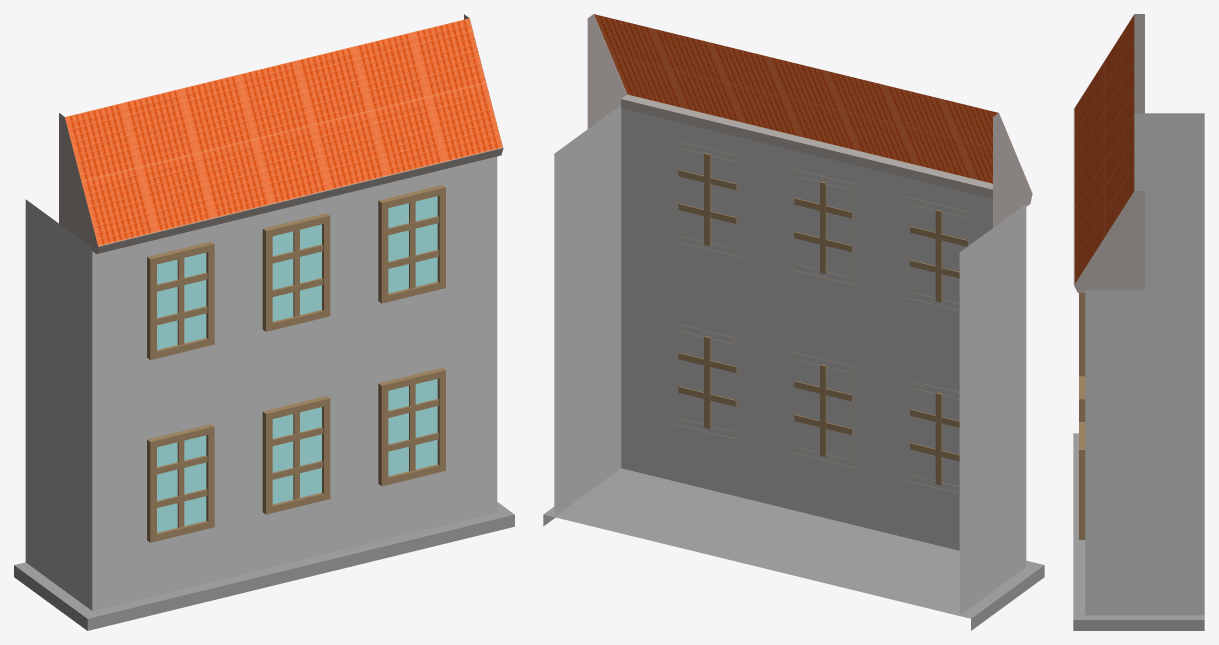
File: old_town_facade_3_WIP.fbx
3 views of the same model, side by side, from view 1: azimuth 30°, elevation 25°; view 2: azimuth 150°, elevation 25°; view 3: azimuth 270°, elevation 25° (orthographic). The views are drawn at different scales.
Parts seen in each view (by area): view 1: old_town_facade_3_WIP; view 2: old_town_facade_3_WIP; view 3: old_town_facade_3_WIP.
Part boxes in pixels (left/top/right/bottom): old_town_facade_3_WIP: left=14, top=14, right=514, bottom=630; old_town_facade_3_WIP: left=543, top=14, right=1044, bottom=630; old_town_facade_3_WIP: left=1073, top=14, right=1204, bottom=630.
Bounding box in the file's own units: 739 × 803 × 220.
